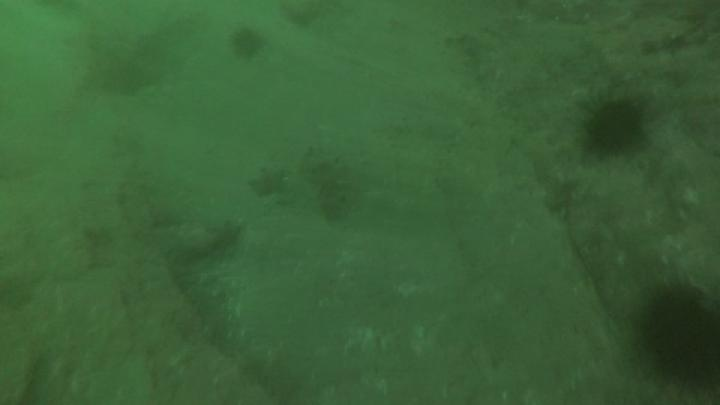echinus: (635, 280, 720, 397), (578, 94, 650, 160), (227, 25, 268, 63)
holothurian: (301, 145, 358, 225)
starfish: (246, 164, 290, 201)
